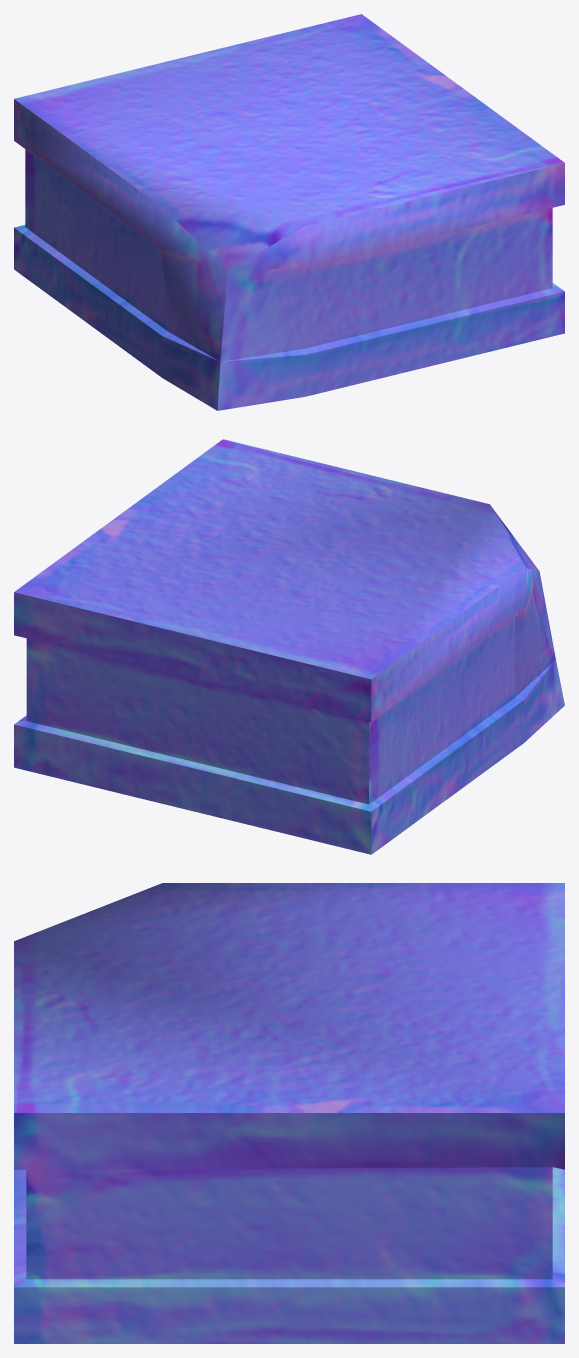
File: pillar_top_02a_LOD1.fbx
3 views of the same model, one above another, from view 1: azimuth 30°, elevation 25°; view 2: azimuth 150°, elevation 25°; view 3: azimuth 270°, elevation 25° (orthographic). The views are drawn at different scales.
Visible parts, largest first — view 1: pillar_top_02a_LOD1; view 2: pillar_top_02a_LOD1; view 3: pillar_top_02a_LOD1.
Boxes of the visible parts, x1,y1,x2,y2 form: pillar_top_02a_LOD1: (14, 14, 564, 410); pillar_top_02a_LOD1: (14, 439, 564, 854); pillar_top_02a_LOD1: (14, 883, 564, 1343).
Size of the model in its own units: 34.12 by 34.57 by 16.
Materials: 1 (1 with a texture image).
